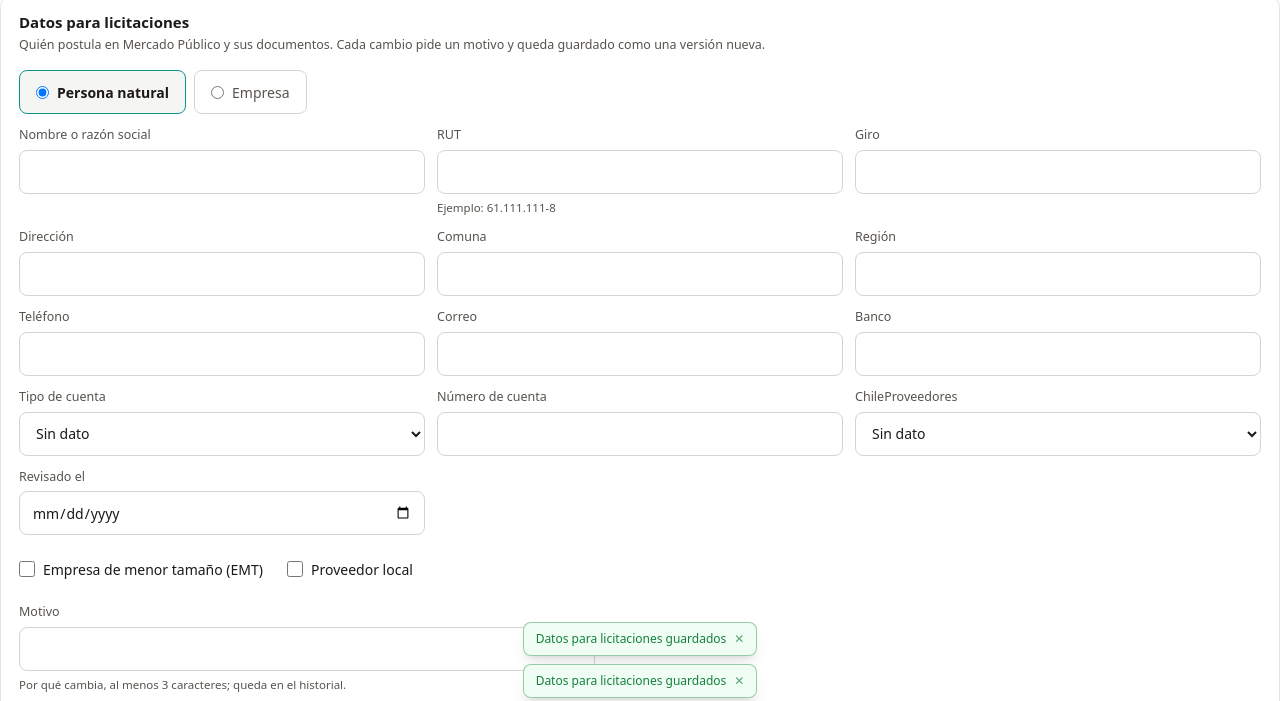
Scenario: BidderPreferences › shows an invalid RUT next to the RUT field
Expected: the field labelled "RUT" is shown, top-left (437, 150), bottom-right (843, 194)
Type "Oferente Ejemplo" into the field labelled "Nombre o razón social". click: (222, 172)
box: top-left (19, 150), bottom-right (425, 194)
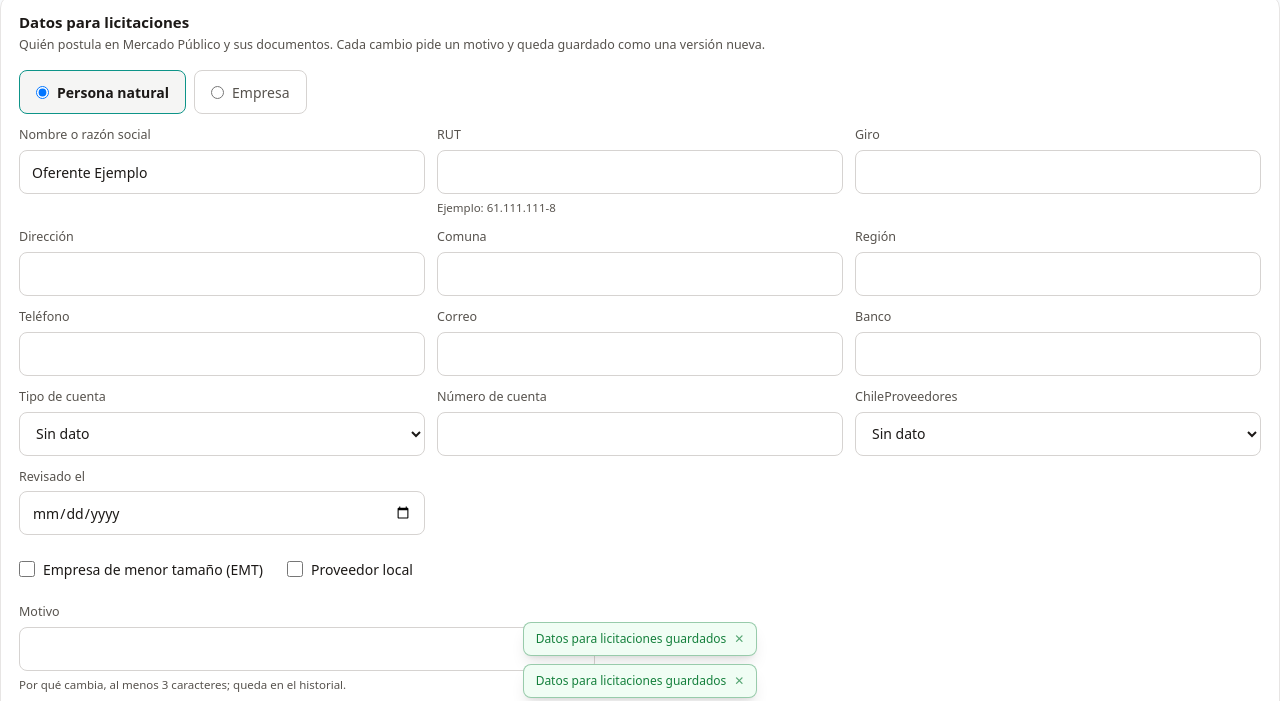
Type "61.111.111-9" into the field labelled "RUT". click: (640, 172)
box: top-left (437, 150), bottom-right (843, 194)
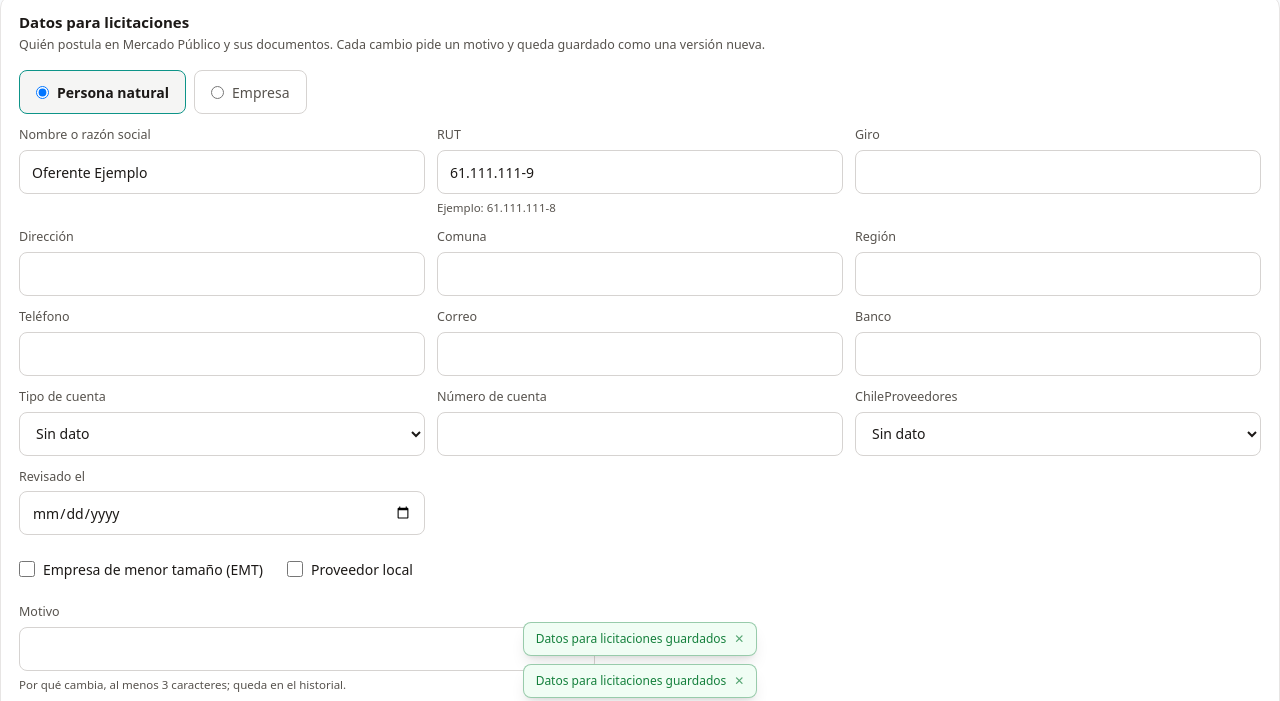
Type "Carga inicial" into the field labelled "Motivo". click: (307, 649)
box: top-left (19, 627), bottom-right (595, 671)
(page scrolled)
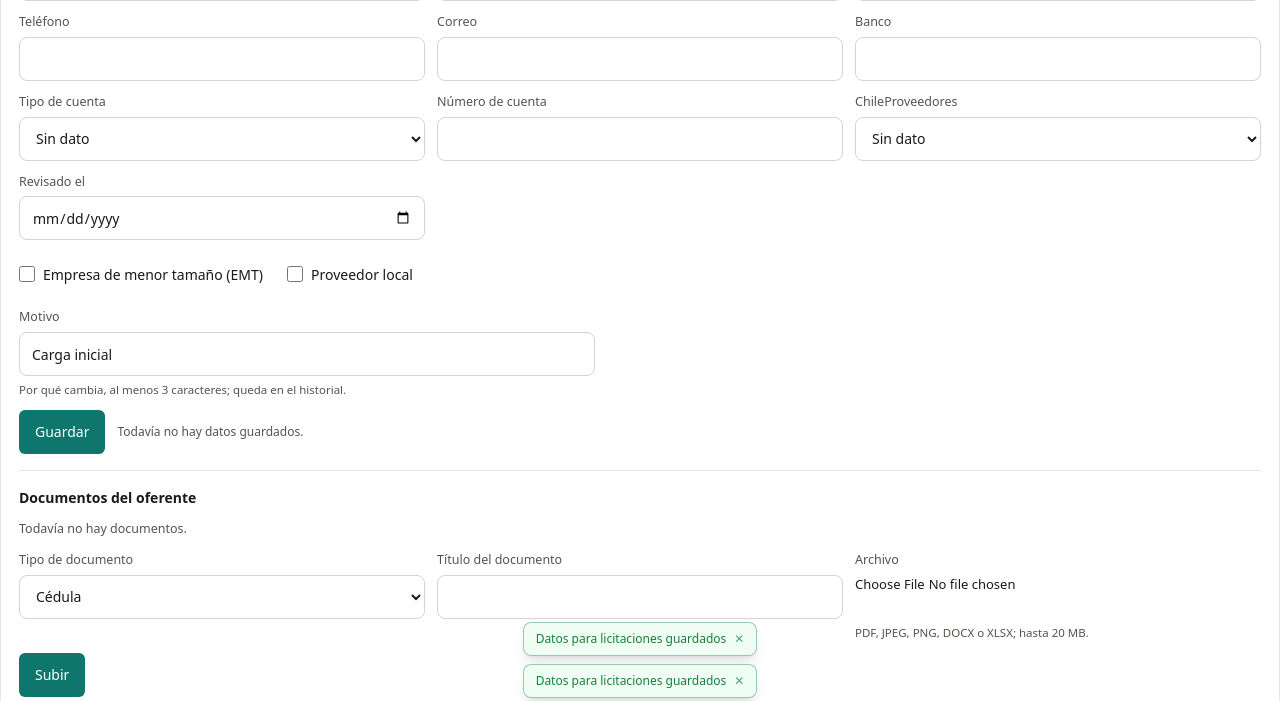
Click the button "Guardar". click: (62, 432)
box: top-left (19, 410), bottom-right (106, 454)
(page scrolled)
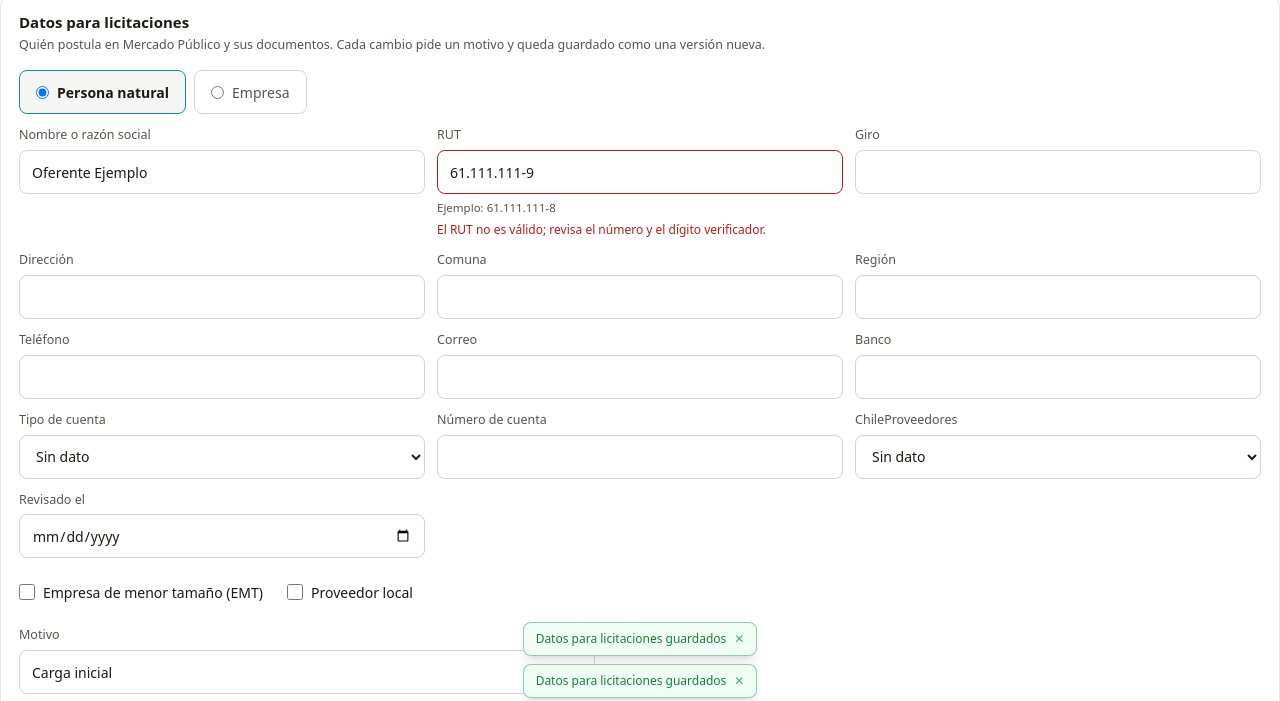
Expected: the text "El RUT no es válido; revisa el número y el dígito verificador." is shown, top-left (437, 221), bottom-right (766, 238)
